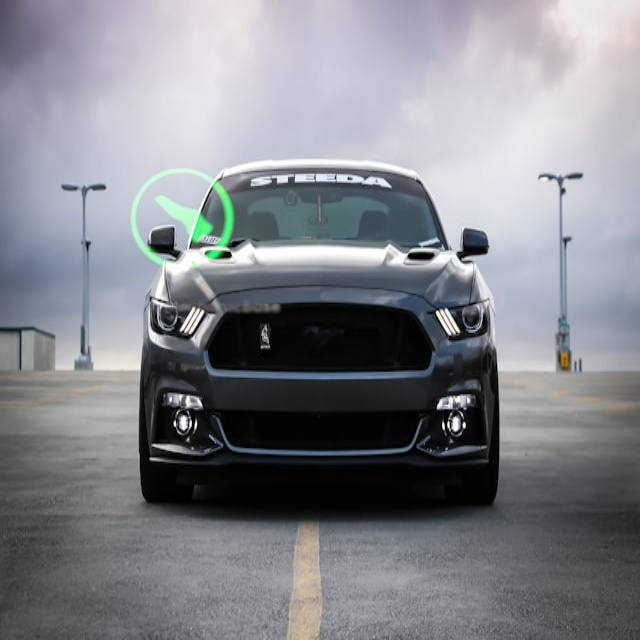symbol: (84, 118, 288, 322)
